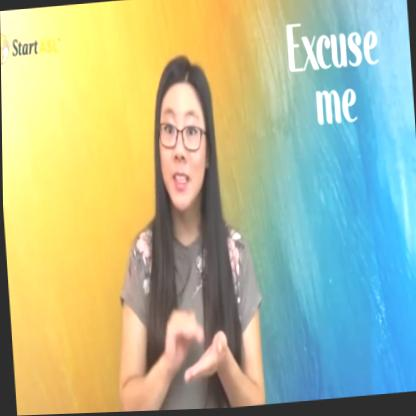ExcuseMe: (156, 298, 237, 392)
